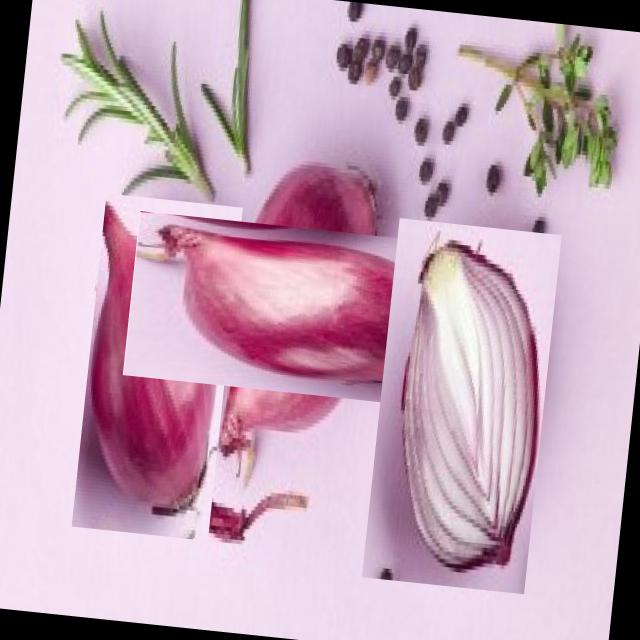Onion: (163, 170, 445, 452), (361, 218, 562, 594), (70, 192, 242, 541)
